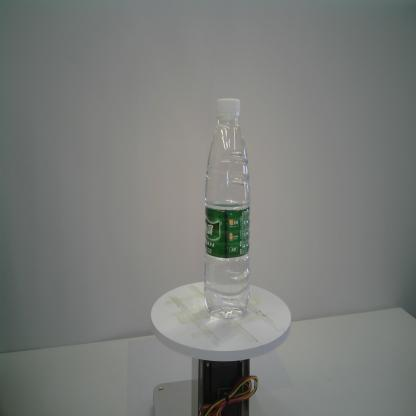Drink: (204, 97, 252, 320)
